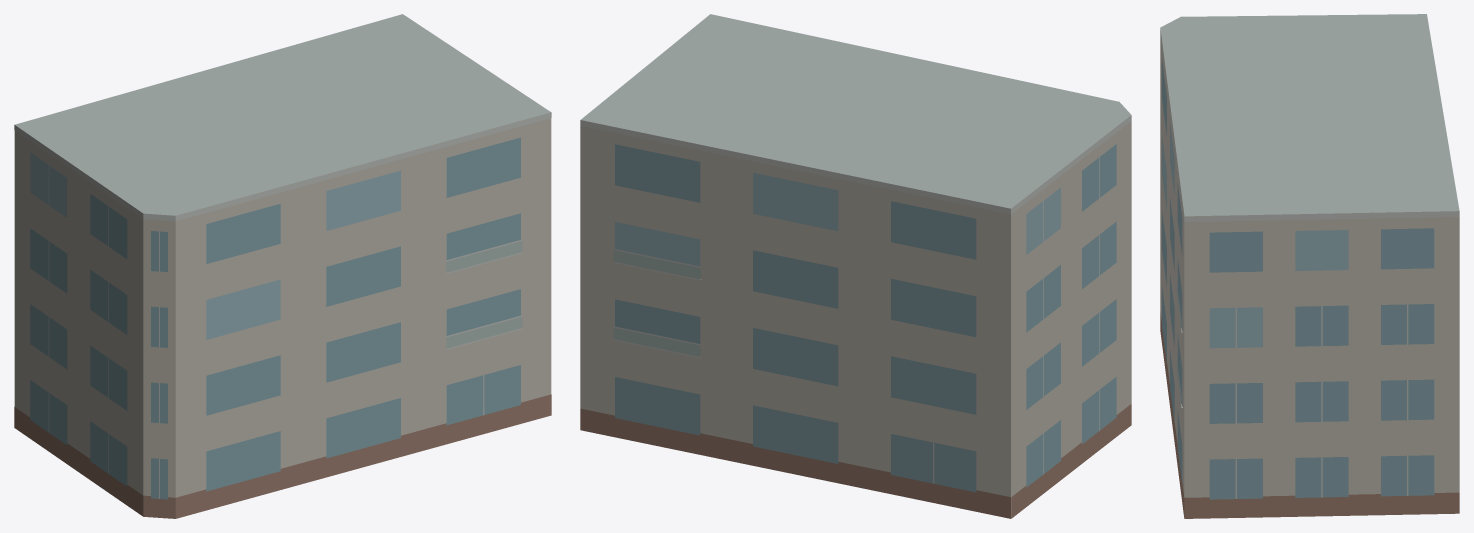
Rendered from survey-upis-32682227.glb.
The picture shows the model from 3 angles, left to right: view 1: azimuth 30°, elevation 25°; view 2: azimuth 150°, elevation 25°; view 3: azimuth 270°, elevation 25°; orthographic projection. The views are drawn at different scales.
Parts seen in each view (by area): view 1: survey-upis-32682227.tmp; view 2: survey-upis-32682227.tmp; view 3: survey-upis-32682227.tmp.
Boxes of the visible parts, x1,y1,x2,y2 form: survey-upis-32682227.tmp: (14,14,551,518); survey-upis-32682227.tmp: (580,14,1131,518); survey-upis-32682227.tmp: (1160,14,1459,518).
Bounding box in the file's own units: 18.51 × 12.9 × 11.57.
